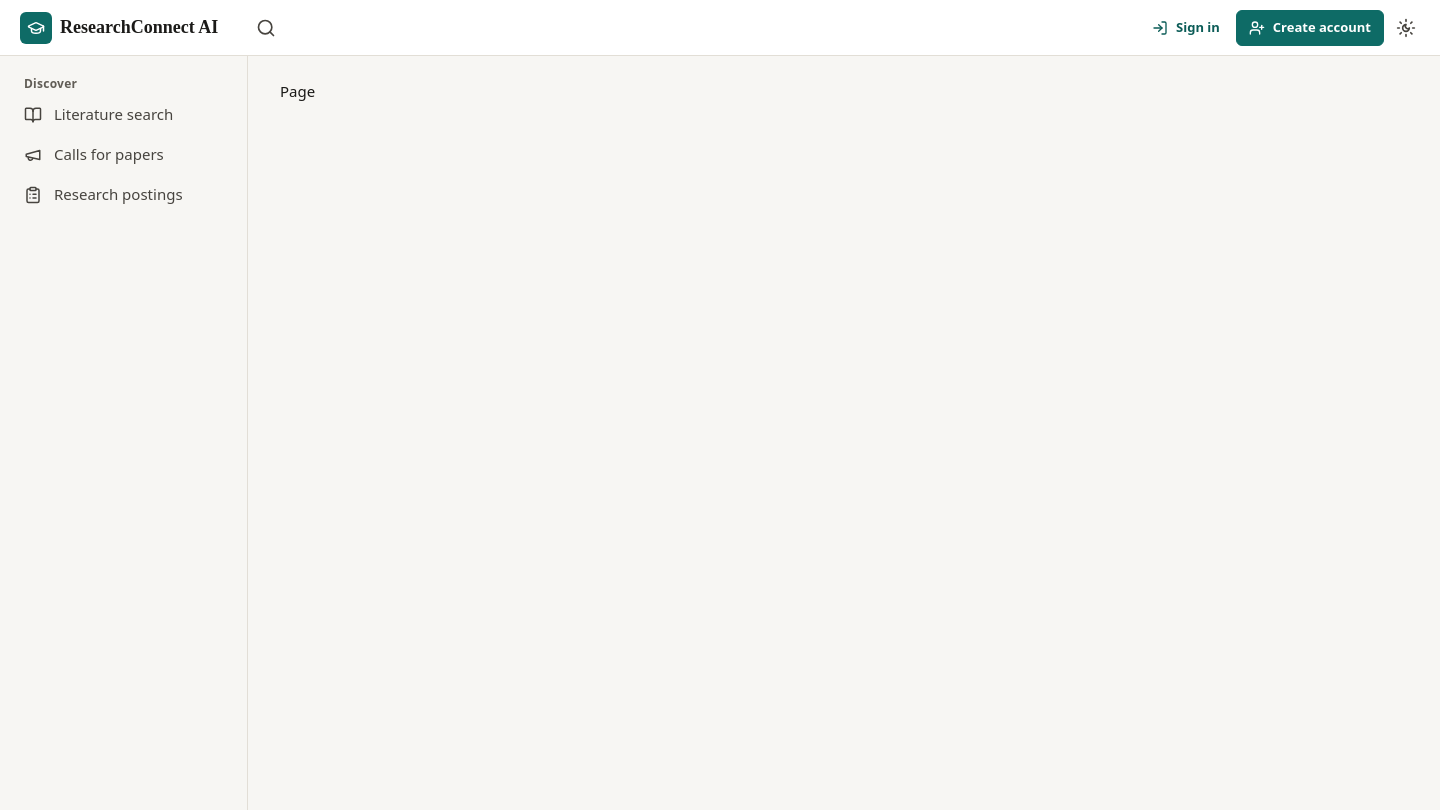
header search › opens a search sheet on a phone, with the field focused
Click the button named "Search papers": coordinates (266, 28) [248,10,284,46]
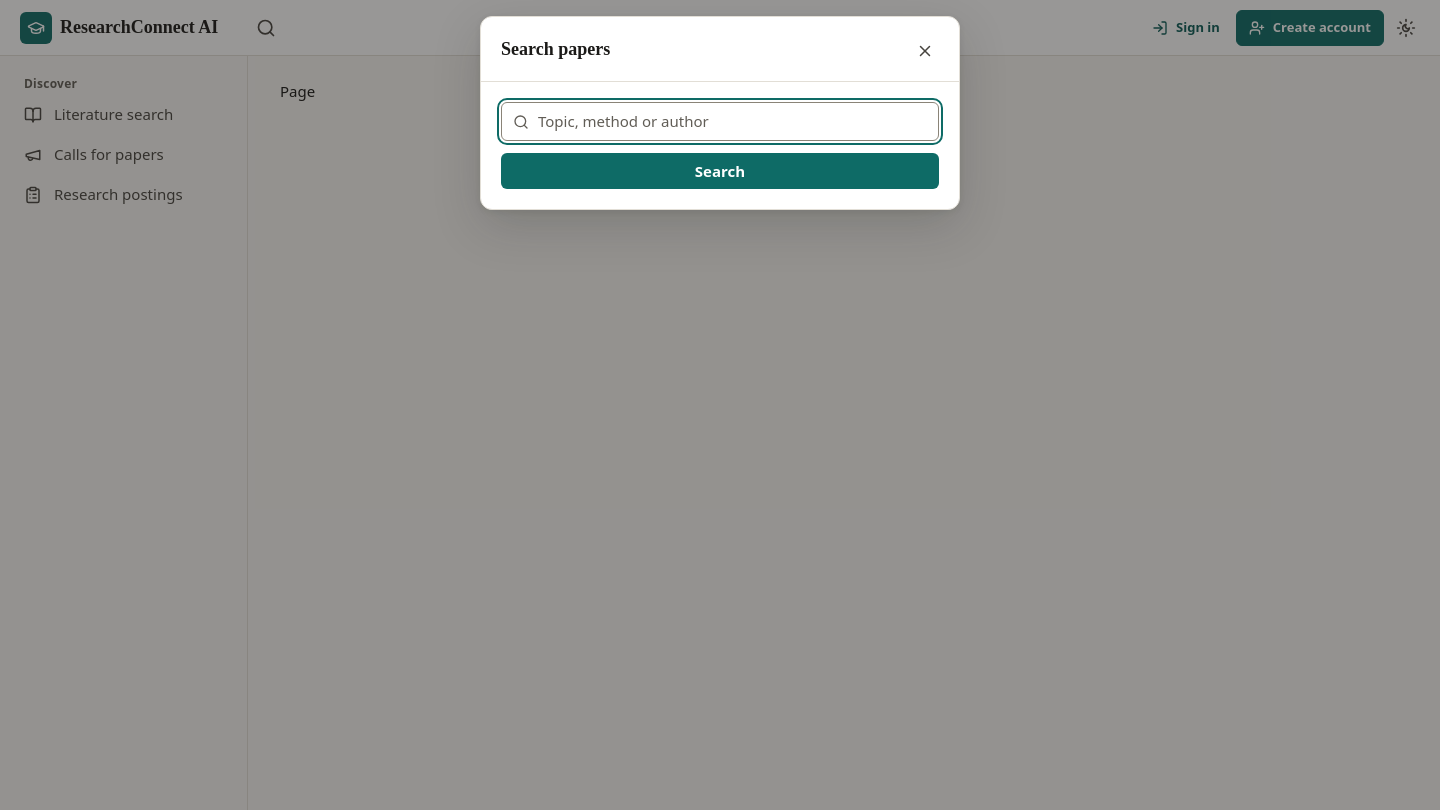
Check: the button named "Search papers" is expanded, box [248,10,284,46]
In the search field named "Search papers": coordinates (720, 122) [501,102,939,141], type "federated learning"
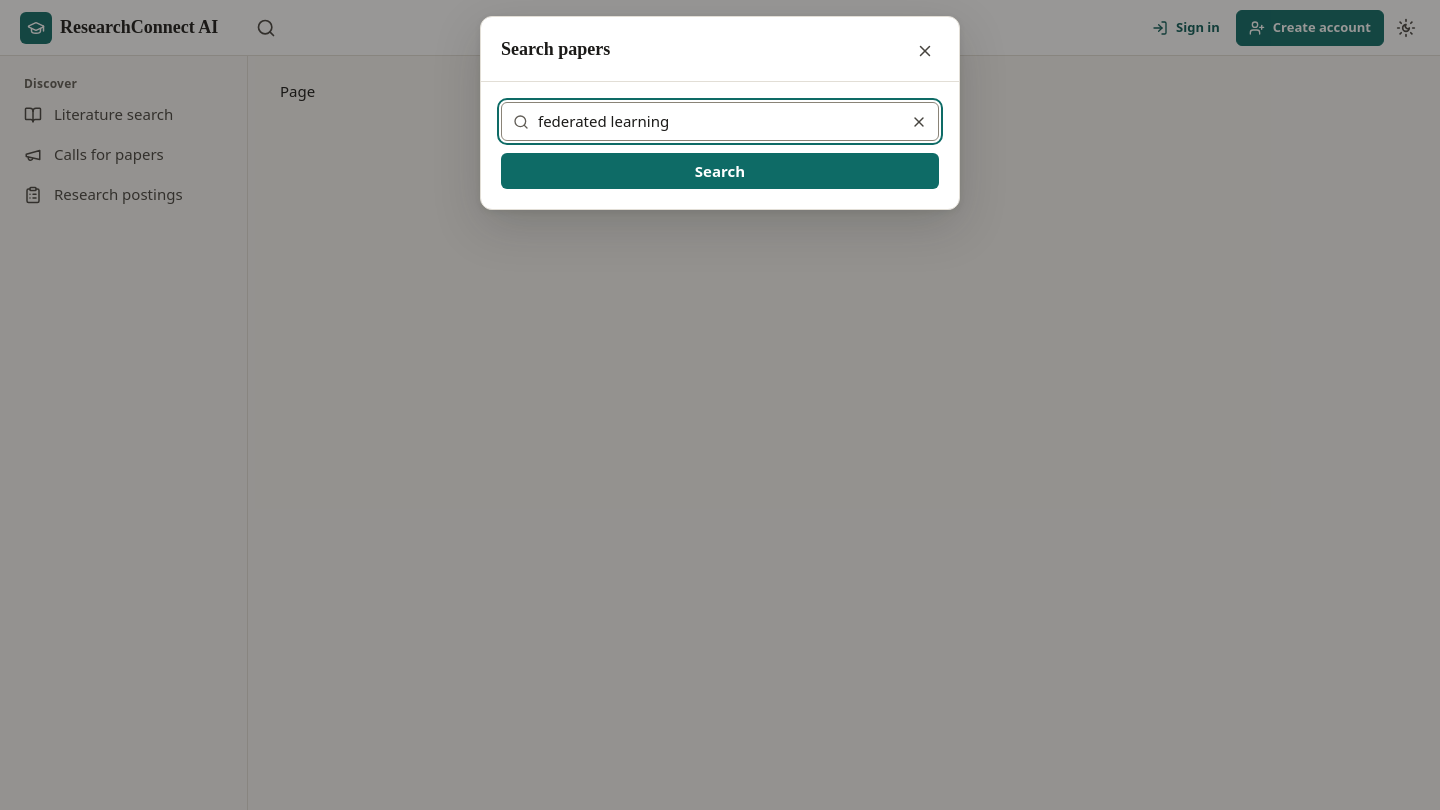
Click the button "Search": coordinates (720, 171) [501,153,939,189]
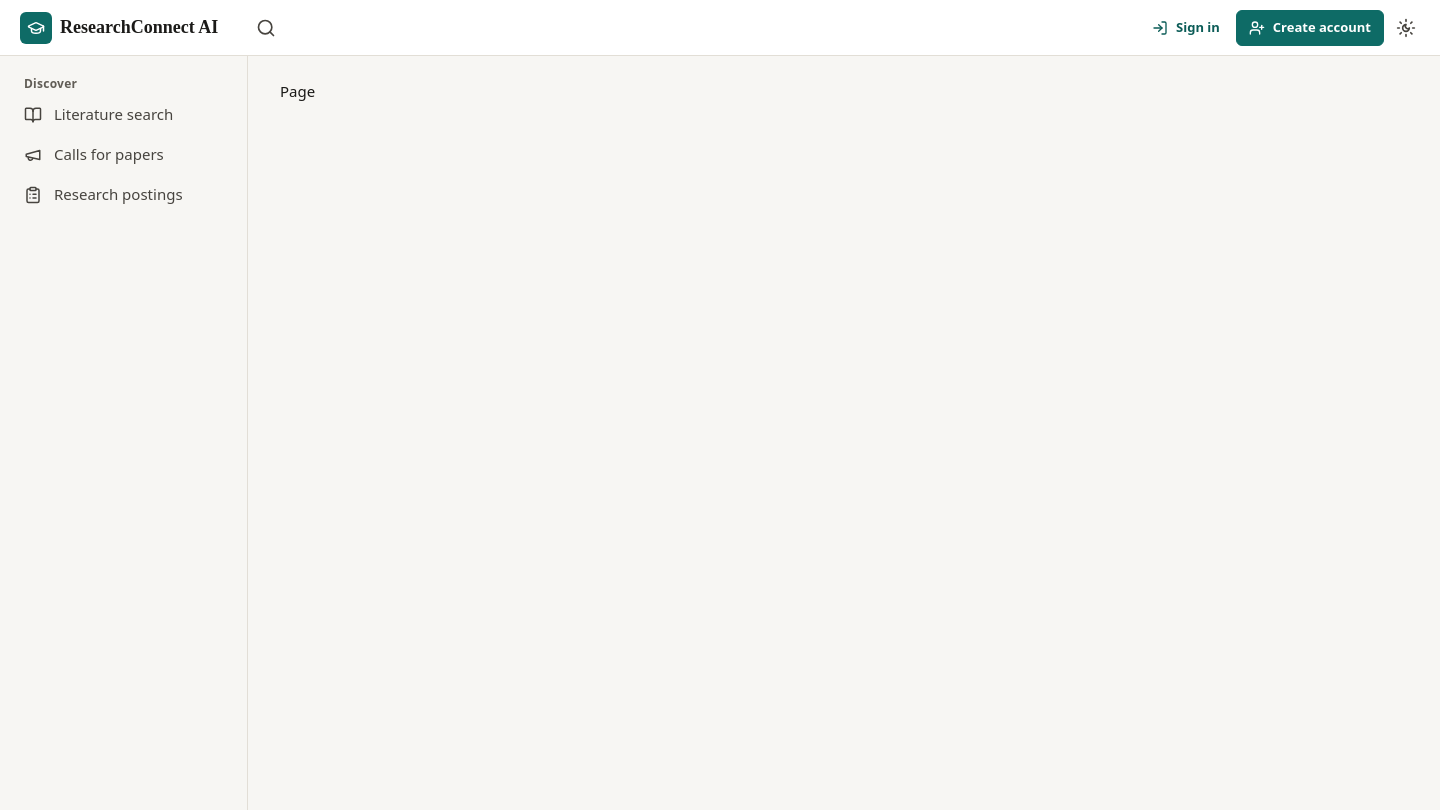
Check: the button named "Search papers" is collapsed, box [248,10,284,46]
